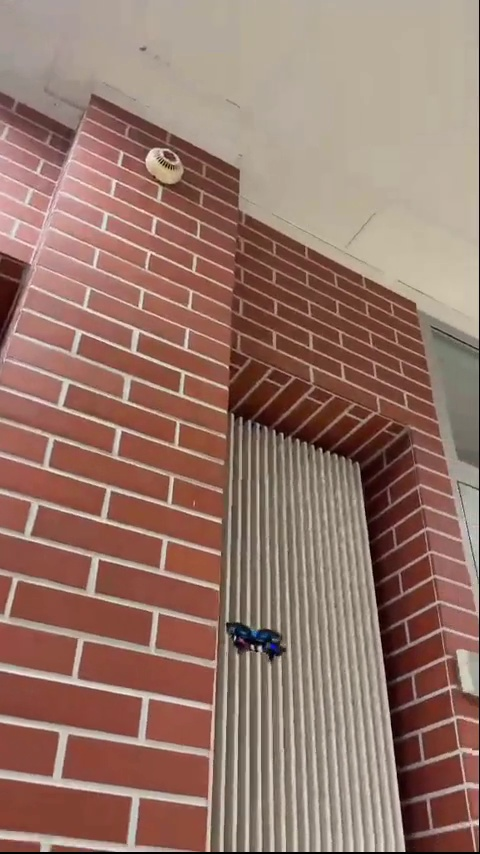drone: (222, 617, 281, 657)
